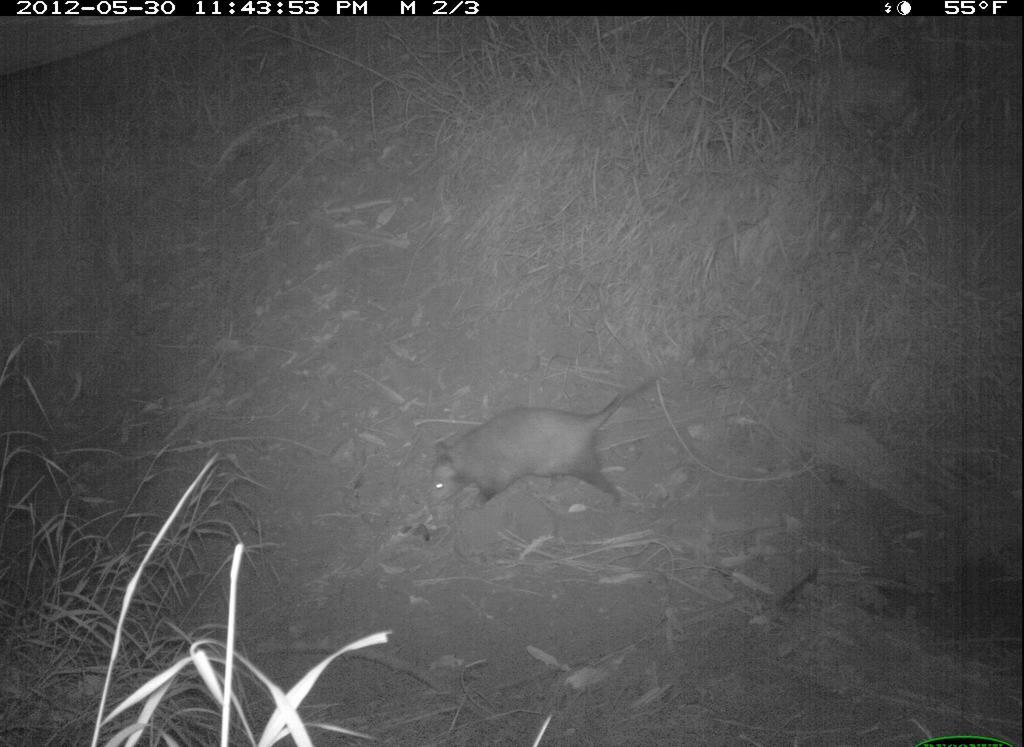opossum: (419, 370, 671, 523)
